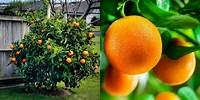orange: (103, 14, 159, 67), (99, 63, 153, 100), (153, 37, 189, 80)
